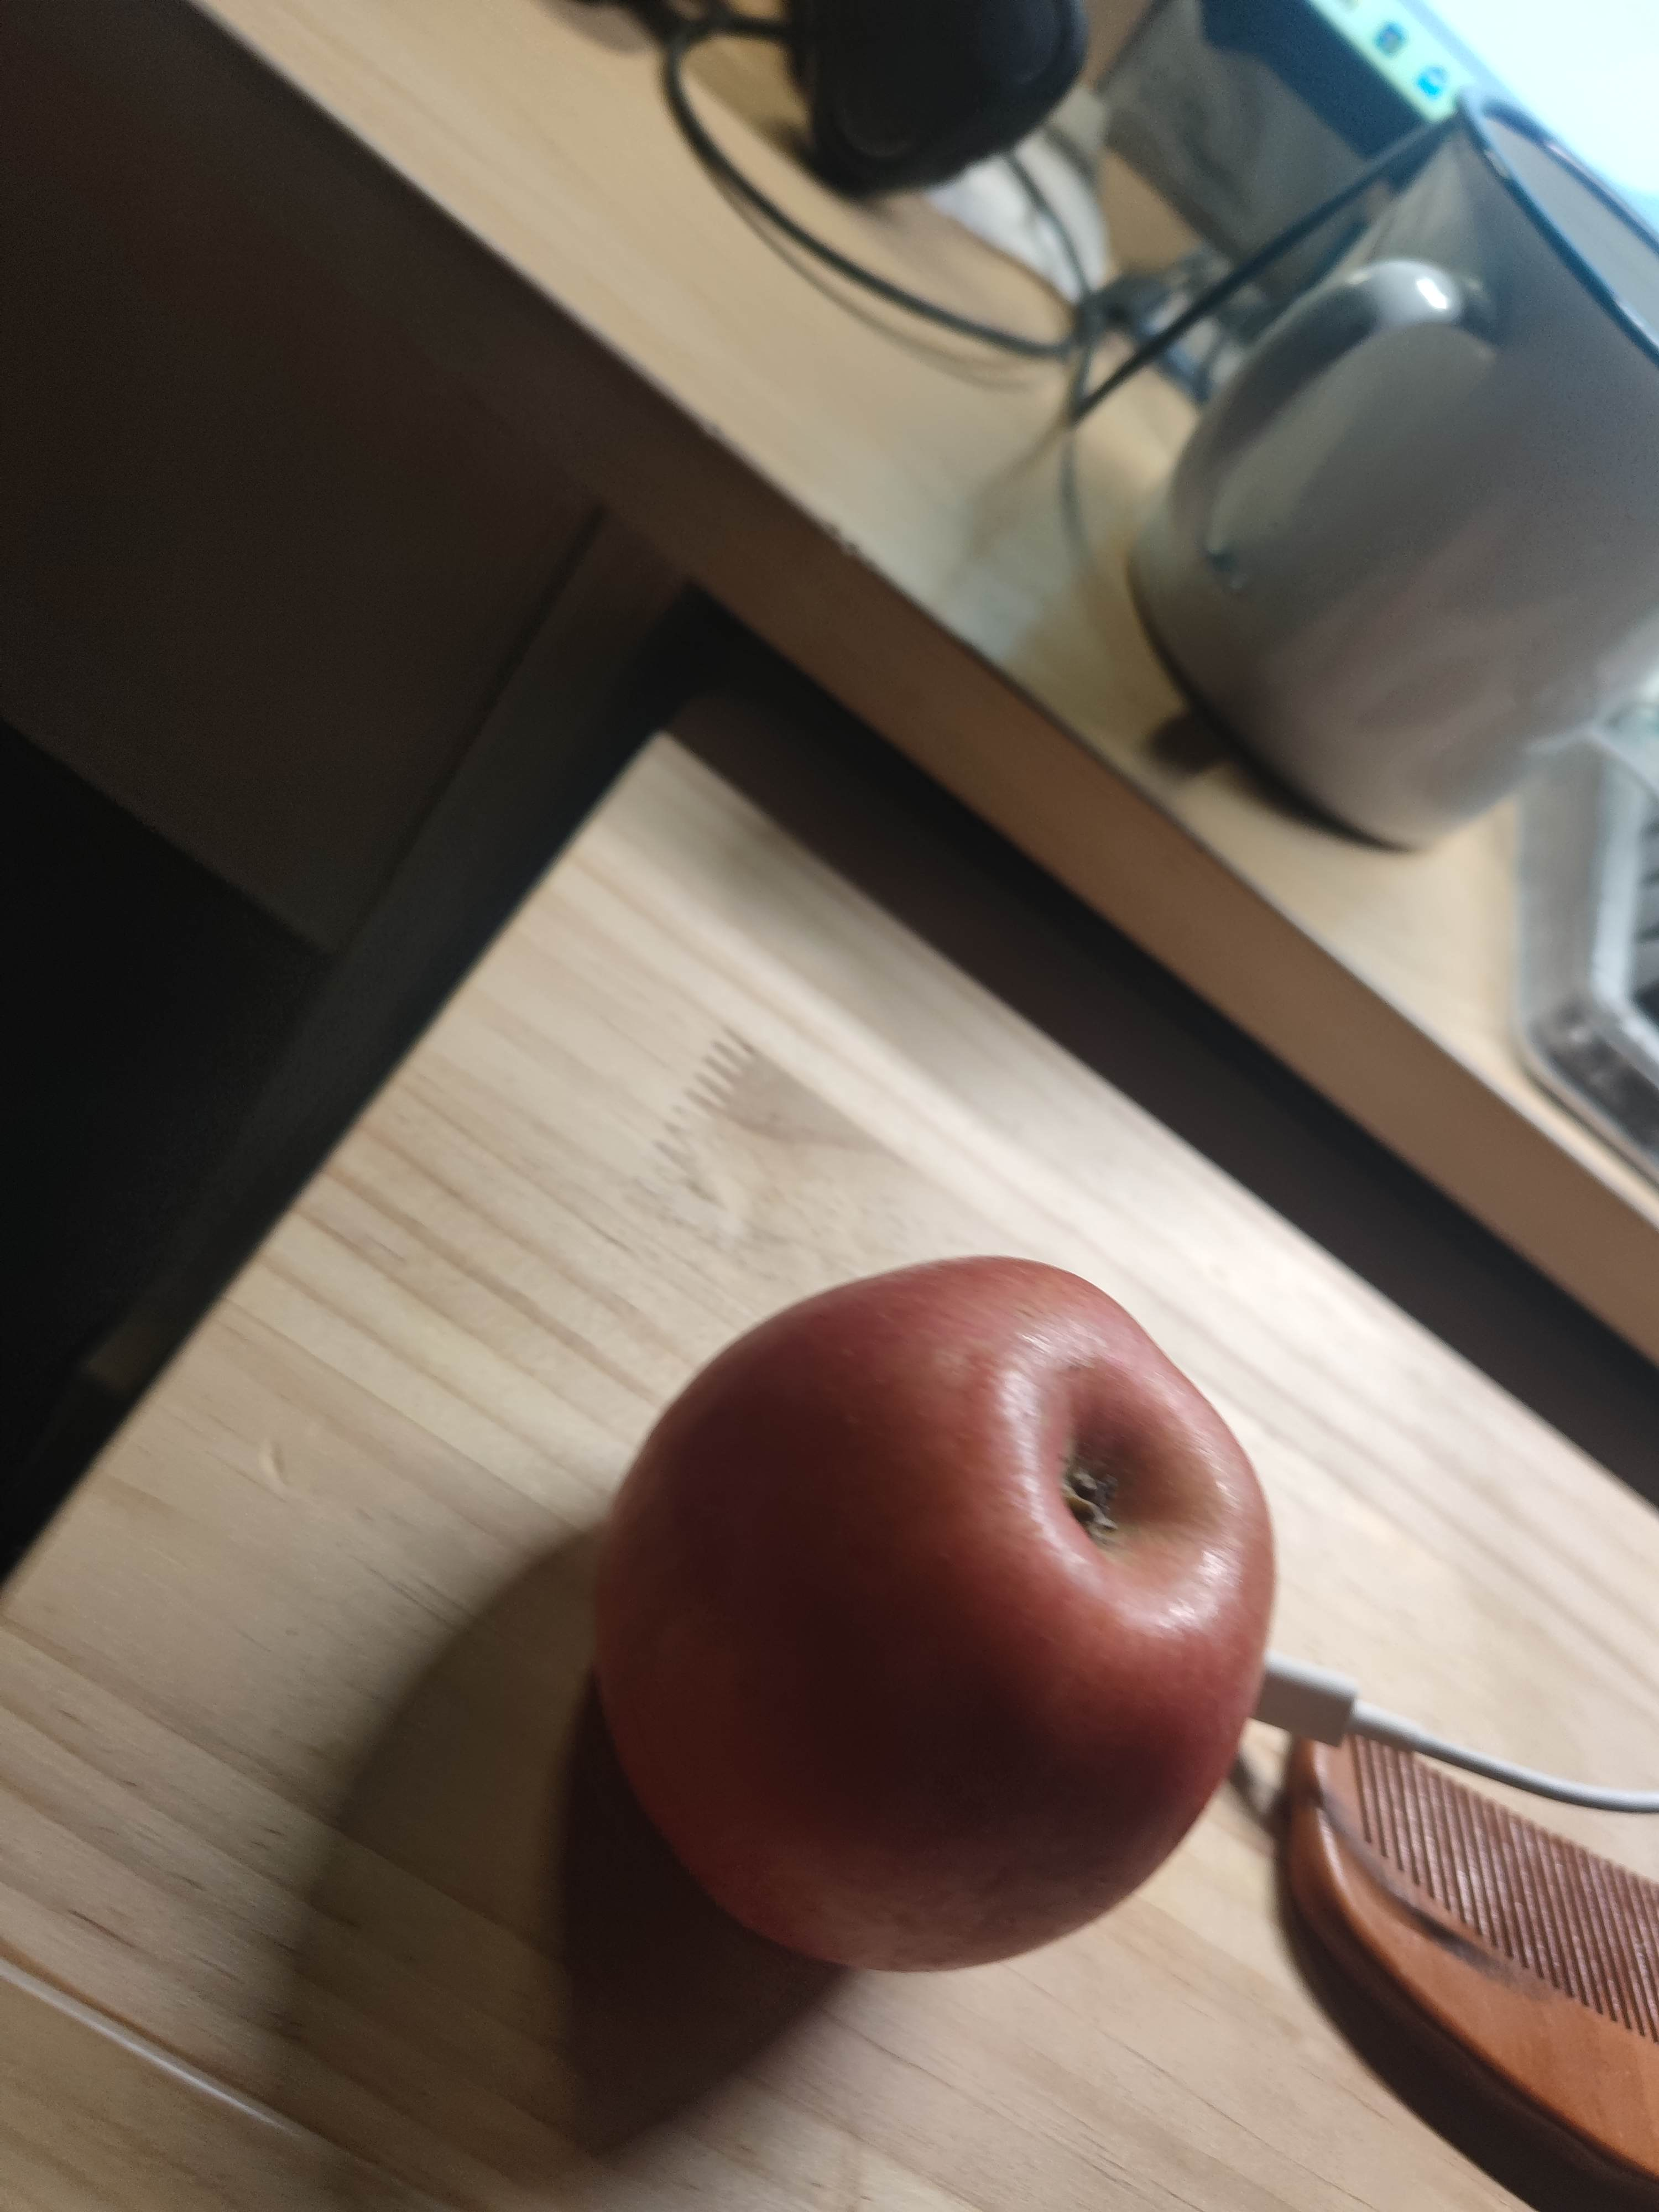apple: (586, 1254, 1279, 1973)
